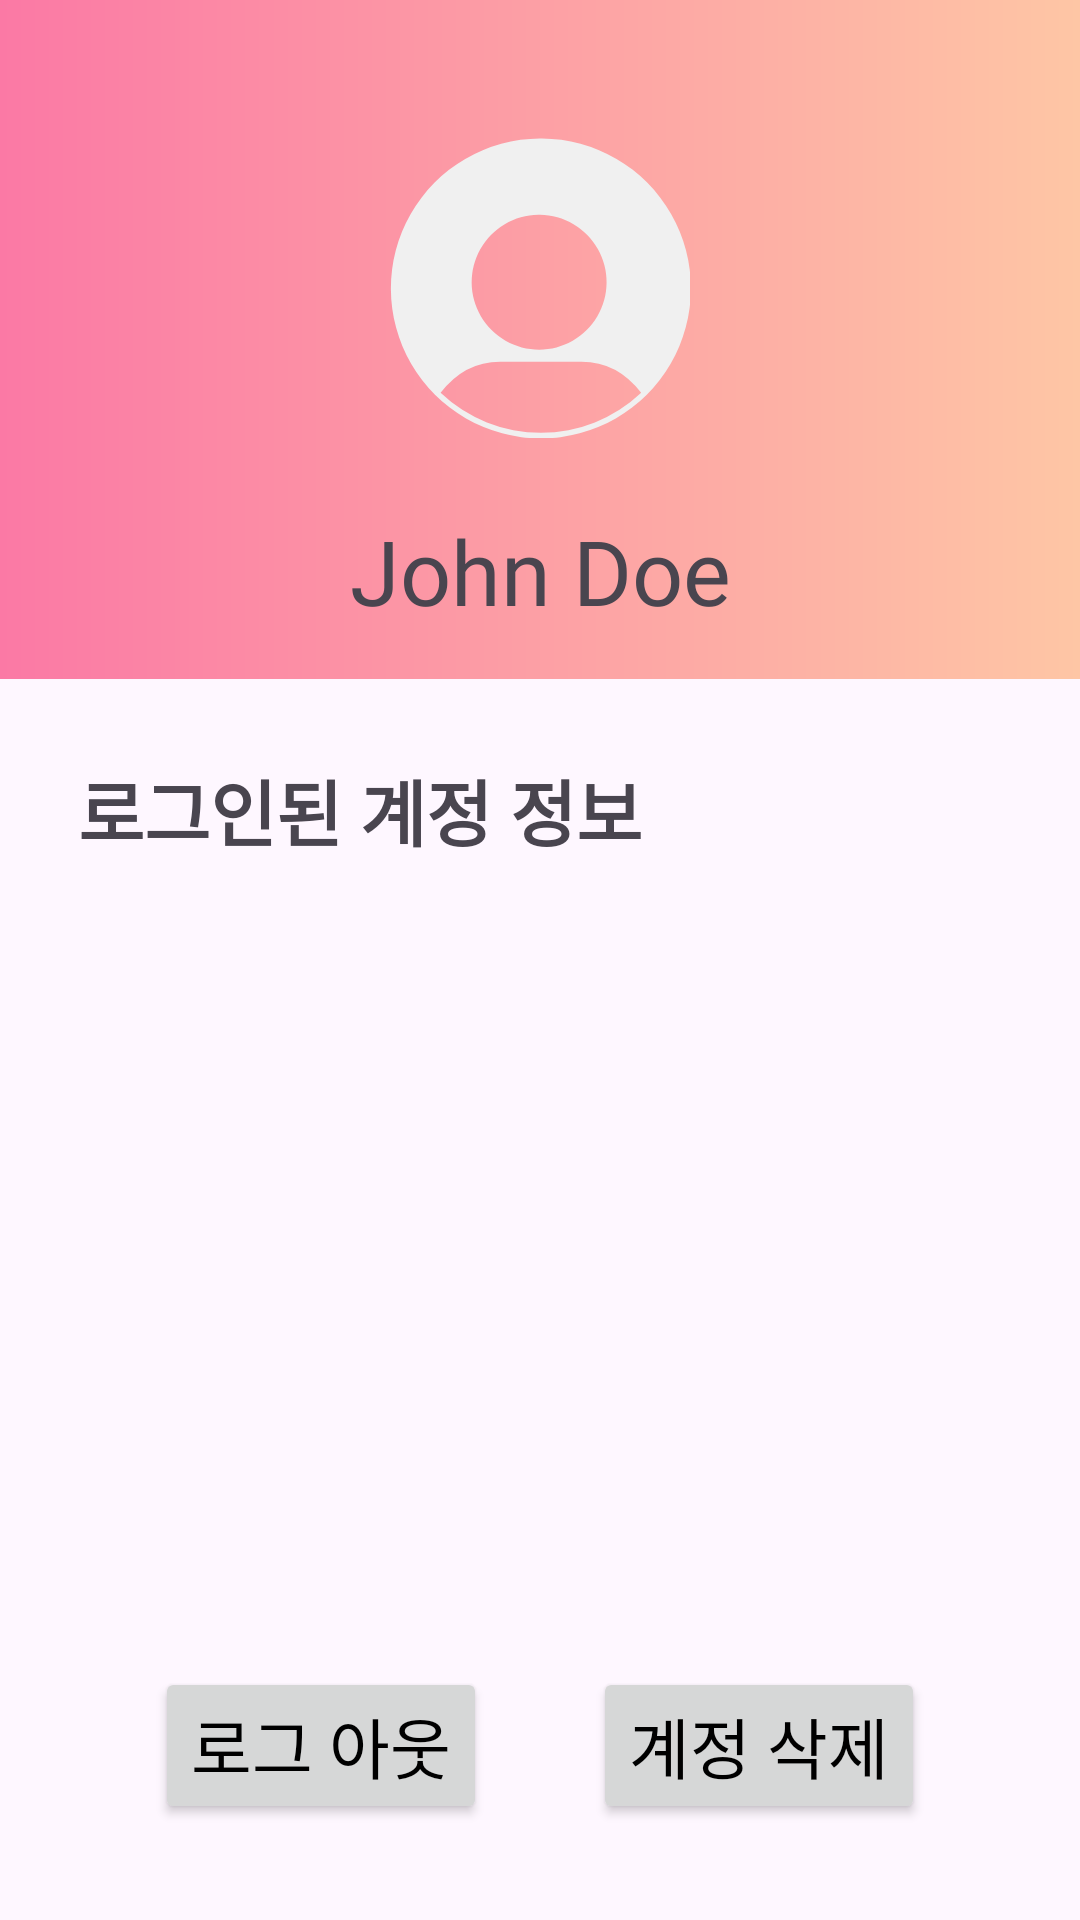

Screen size 1080*1920. Icon name, then its center in pixels as point (x, y):
profile: point (540, 288)
